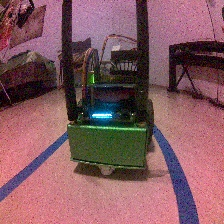rob: (65, 48, 154, 176)
